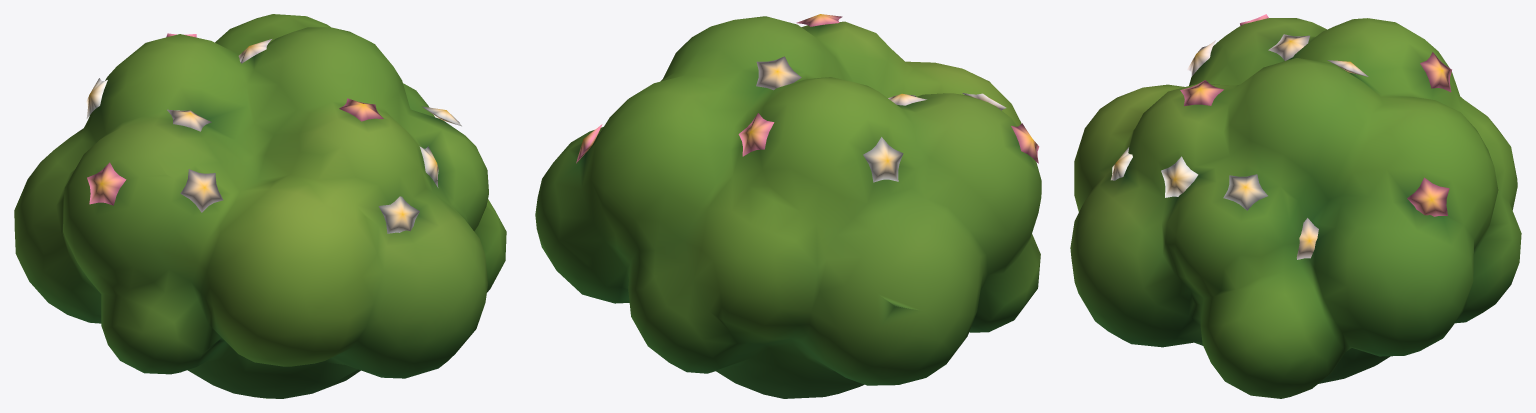
Rendered from bush.glb.
The picture shows the model from 3 angles, left to right: view 1: azimuth 30°, elevation 25°; view 2: azimuth 150°, elevation 25°; view 3: azimuth 270°, elevation 25°; orthographic projection. The views are drawn at different scales.
Parts seen in each view (by area): view 1: bush; view 2: bush; view 3: bush.
Part boxes in pixels (x1,y1,x2,y2): bush: (14,14,506,398); bush: (535,14,1041,398); bush: (1070,14,1521,398).
Bounding box in the file's own units: 1.47 × 1.13 × 1.41.
